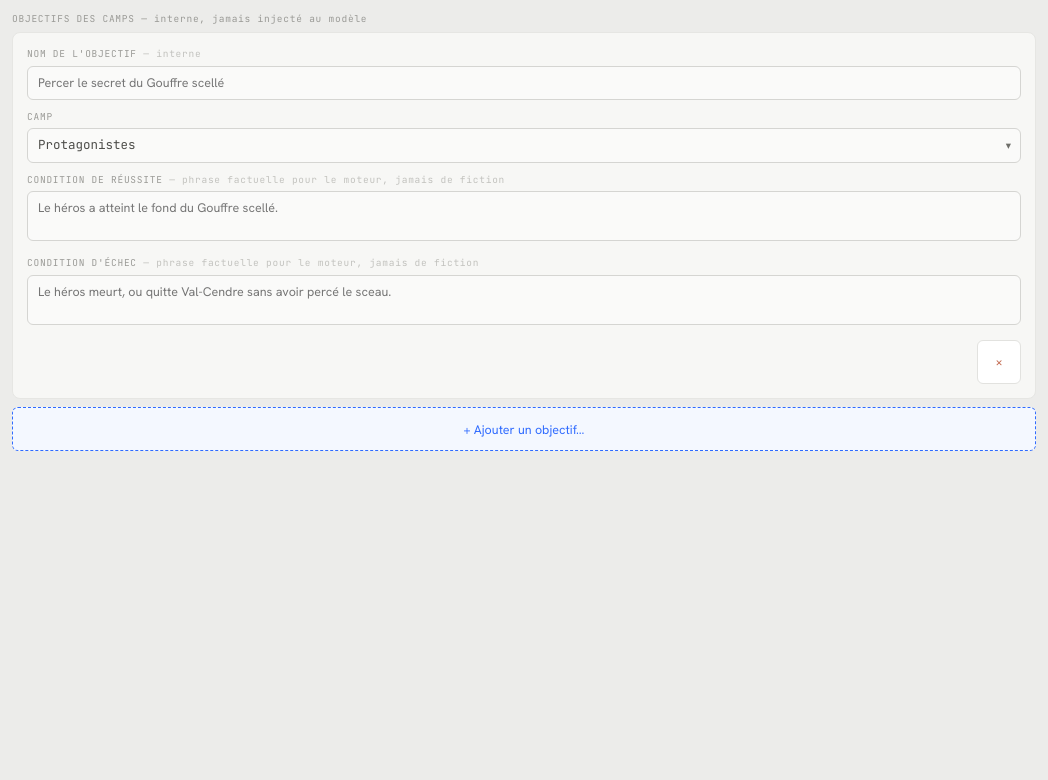
Test: ObjectifsCanon › un succes sur le MEME objectif refuse efface le bandeau (echec puis succes)
Note: Echec : le retrait de l'objectif reference est refuse, le bandeau s'allume.
Click the button named "Retirer l'objectif n°1": click(999, 362) [977, 340, 1021, 384]
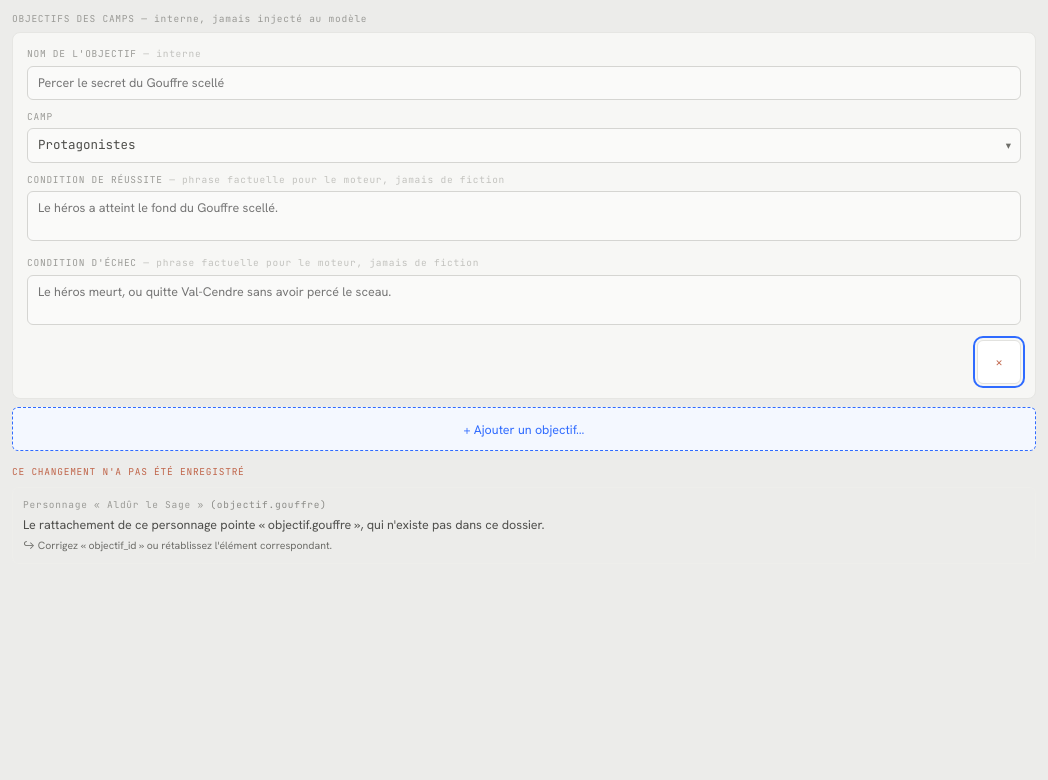
Now the message shows "CE CHANGEMENT N'A PAS ÉTÉ ENREGISTRÉ", box [12, 465, 245, 478]
Note: Succes : une saisie de nom sur ce meme objectif committe sans etre refusee.
In the field labelled "NOM DE L'OBJECTIF — interne": (524, 83) [27, 66, 1021, 100], type "Objectif corrige"
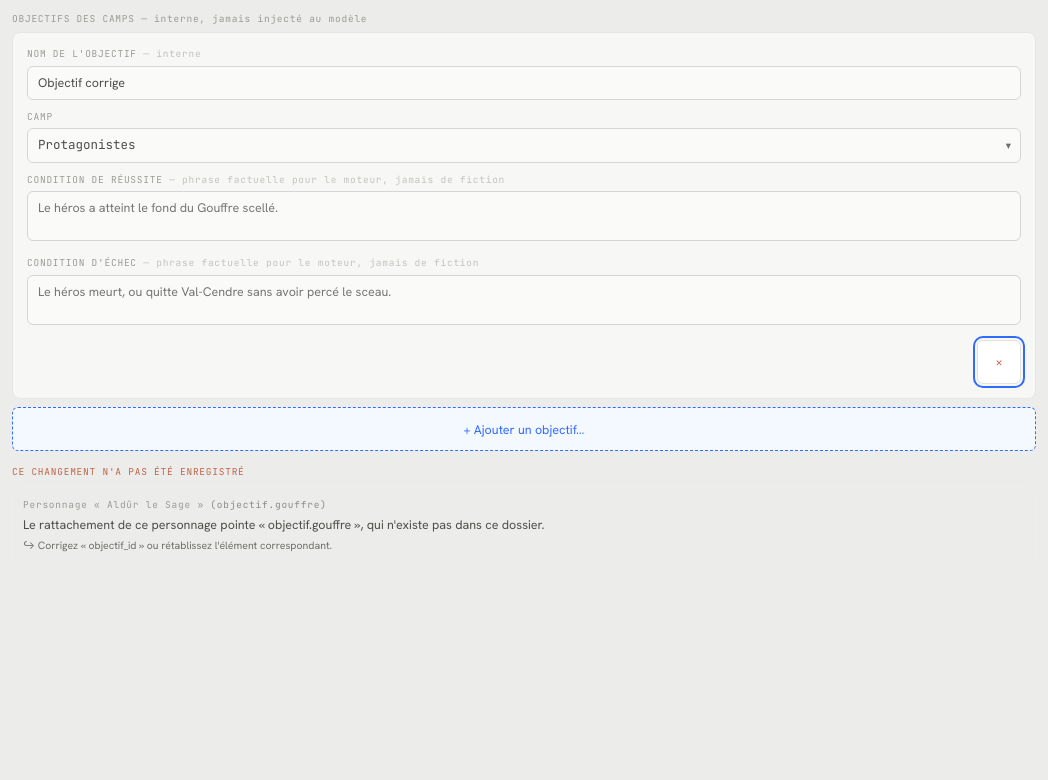
Leave the field labelled "NOM DE L'OBJECTIF — interne", box [27, 66, 1021, 100]
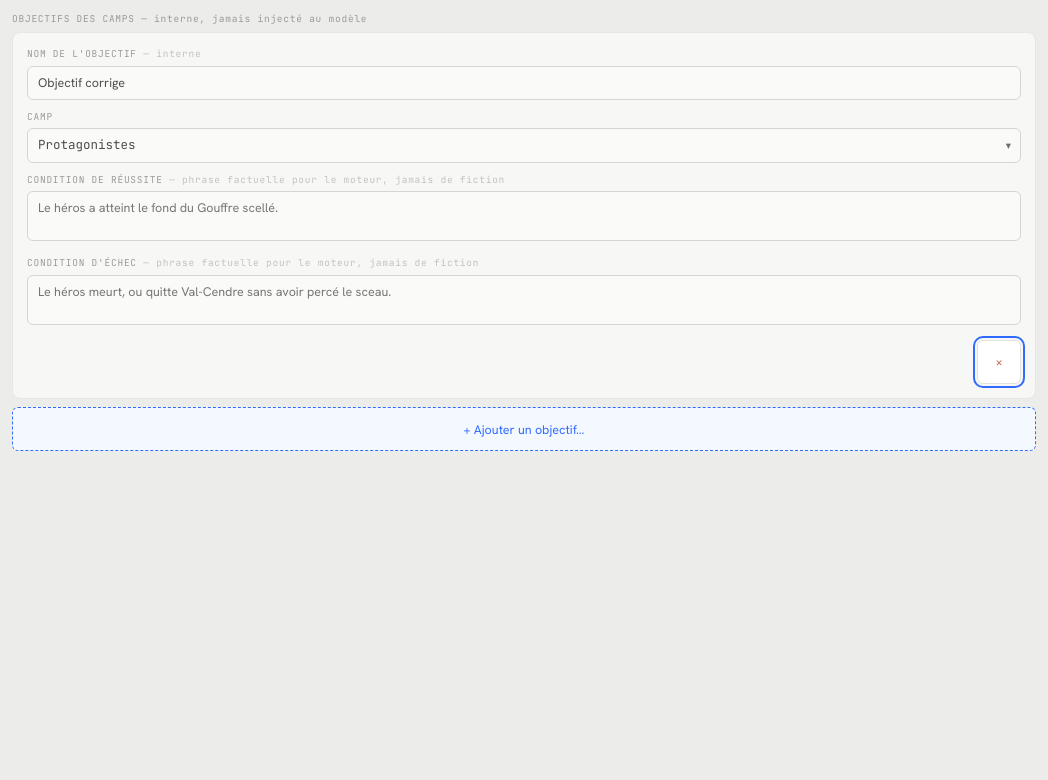
Now the message is gone
